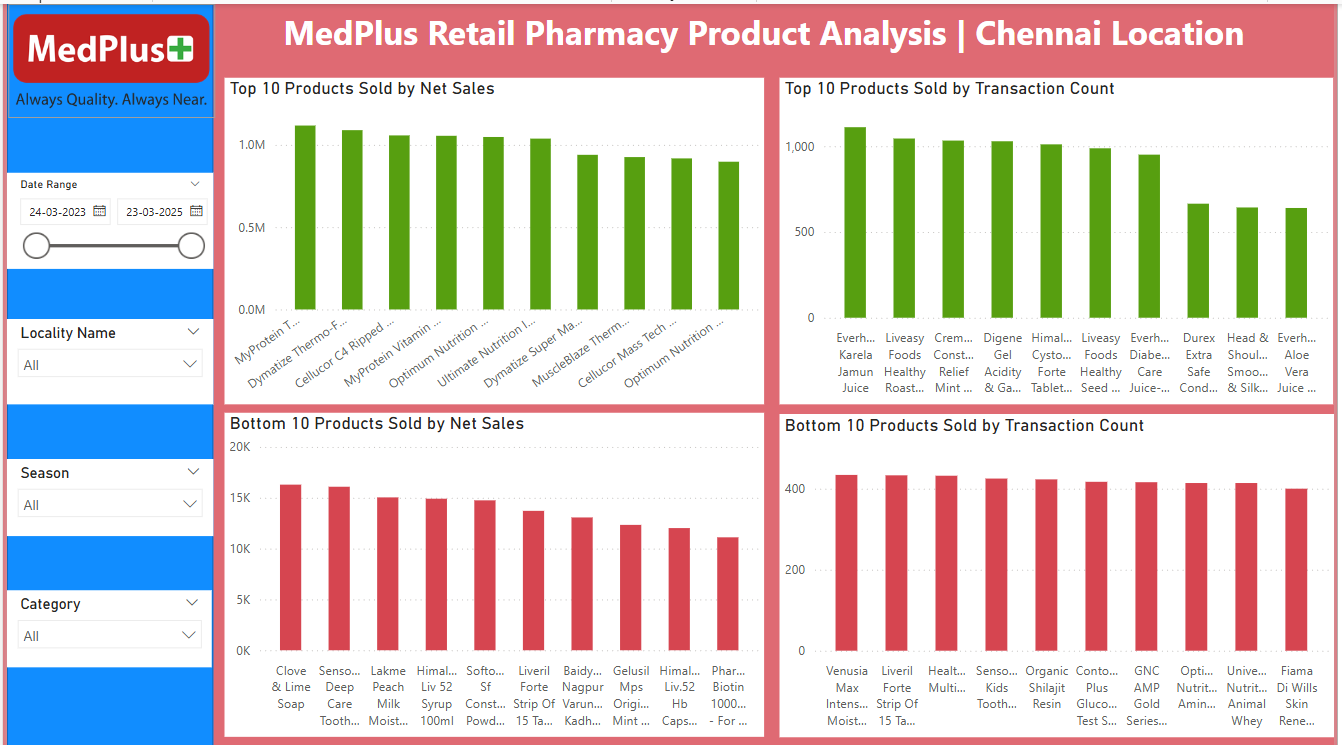

The page's visual inventory and layout, read from the dashboard file:
{"tool":"powerbi","page":{"name":"Product Analysis","canvas":[1280,720],"ordinal":1},"visuals":[{"type":"textbox","box":[199.1,0,1062.9,55.5],"z":0},{"type":"shape","box":[0,0,199.1,719.6],"z":1000},{"type":"image","box":[1.2,0,199.3,110.1],"z":2000},{"type":"clusteredColumnChart","title":"Top 10 Products Sold by Net Sales","fields":{"Category":["Sales Data.Product Name"],"Y":["Sum(Sales Data.Total Sales)"]},"box":[209.9,71.2,521.2,314.9],"z":3000},{"type":"clusteredColumnChart","title":"Bottom 10 Products Sold by Net Sales","fields":{"Category":["Sales Data.Product Name"],"Y":["Sum(Sales Data.Total Sales)"]},"box":[209.9,394.5,521.2,312.5],"z":4000},{"type":"slicer","fields":{"Values":["Sales Data.Locality Name"]},"box":[0,304,199.1,82],"z":5000},{"type":"slicer","fields":{"Values":["Sales Data.Date of Sale"]},"box":[0,162.9,199.1,92.9],"z":6000},{"type":"slicer","fields":{"Values":["Sales Data.Season"]},"box":[0,439.1,199.1,74.8],"z":7000},{"type":"clusteredColumnChart","title":"Top 10 Products Sold by Transaction Count","fields":{"Category":["Sales Data.Product Name"],"Y":["formulas.Total Quantity Sold"]},"box":[745.6,71.2,534.5,314.9],"z":8000},{"type":"clusteredColumnChart","title":"Bottom 10 Products Sold by Transaction Count","fields":{"Category":["Sales Data.Product Name"],"Y":["Sum(Sales Data.Quantity Sold)"]},"box":[745,395.9,535.3,311.8],"z":9000},{"type":"slicer","fields":{"Values":["Sales Data.Category"]},"box":[0,565.8,197.9,74.8],"z":10000}]}

Visuals, with their boxes in screenshot pixels (x1, y1, x2, y2), scaled from the page's 1280x720 canvas onto the 1342x745 screenshot:
textbox: (left=209, top=0, right=1323, bottom=57)
shape: (left=0, top=0, right=209, bottom=744)
image: (left=1, top=0, right=210, bottom=114)
"Top 10 Products Sold by Net Sales" clusteredColumnChart: (left=220, top=74, right=767, bottom=400)
"Bottom 10 Products Sold by Net Sales" clusteredColumnChart: (left=220, top=408, right=767, bottom=732)
slicer - Sales Data.Locality Name: (left=0, top=315, right=209, bottom=399)
slicer - Sales Data.Date of Sale: (left=0, top=169, right=209, bottom=265)
slicer - Sales Data.Season: (left=0, top=454, right=209, bottom=532)
"Top 10 Products Sold by Transaction Count" clusteredColumnChart: (left=782, top=74, right=1341, bottom=400)
"Bottom 10 Products Sold by Transaction Count" clusteredColumnChart: (left=781, top=410, right=1341, bottom=732)
slicer - Sales Data.Category: (left=0, top=585, right=207, bottom=663)
